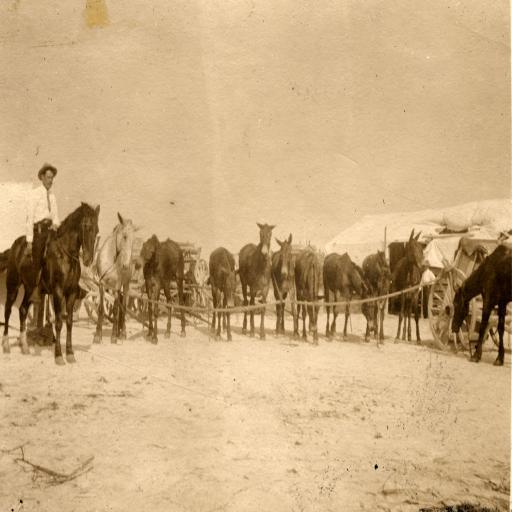horse: (0, 200, 425, 367), (451, 242, 512, 366)
